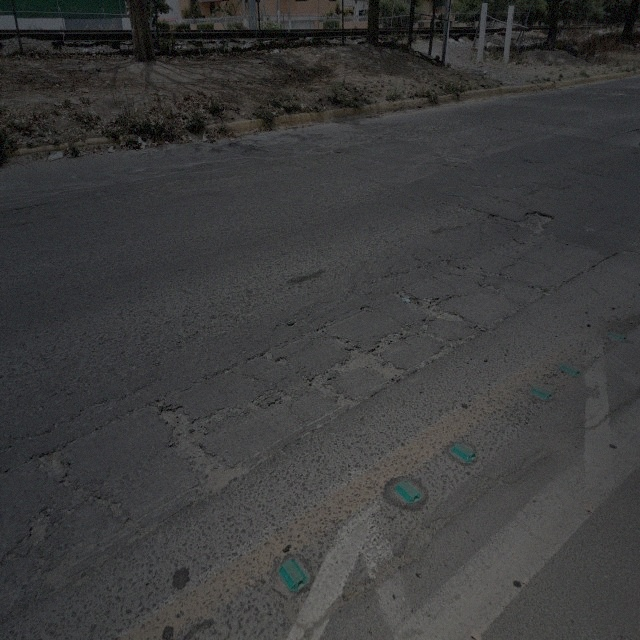pothole: (159, 406, 250, 503), (352, 349, 405, 387), (310, 375, 356, 413), (40, 451, 70, 492), (518, 210, 554, 238), (198, 404, 240, 428), (24, 517, 52, 551), (42, 564, 78, 590), (428, 301, 466, 324), (127, 522, 150, 549), (438, 338, 465, 361), (270, 388, 294, 406), (403, 292, 420, 310), (530, 282, 550, 296), (260, 346, 273, 365), (274, 359, 289, 370), (472, 326, 489, 334), (489, 213, 498, 220)
